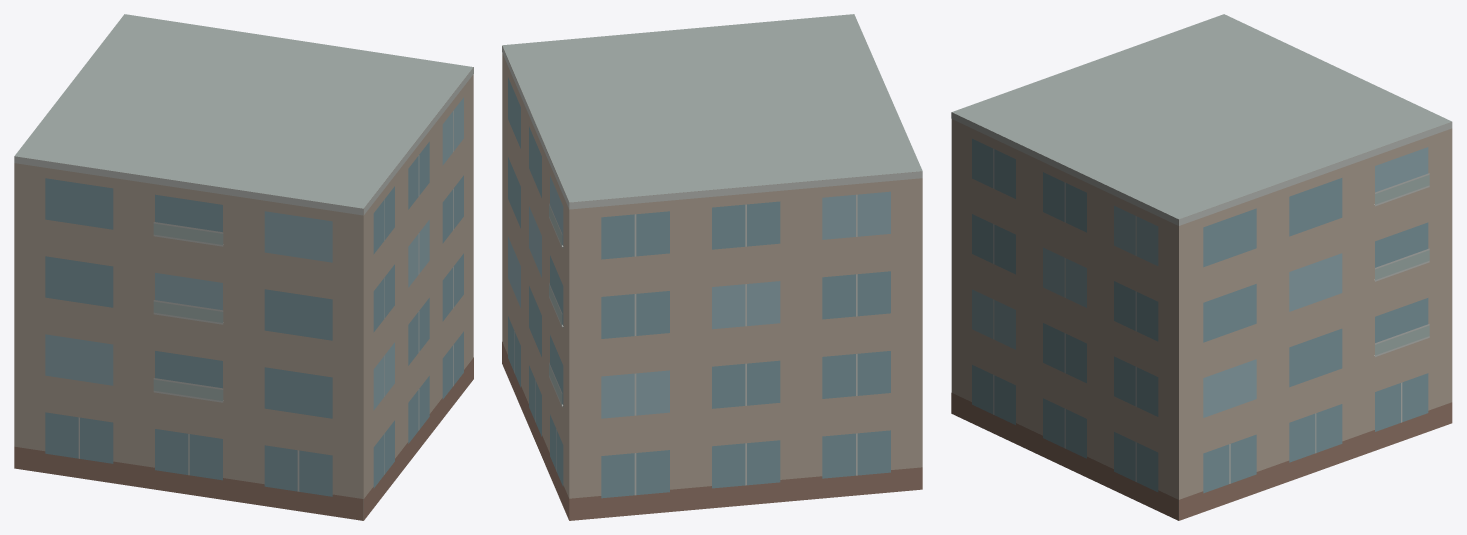
Rendered from survey-upis-32976439.glb.
The picture shows the model from 3 angles, left to right: view 1: azimuth 30°, elevation 25°; view 2: azimuth 150°, elevation 25°; view 3: azimuth 270°, elevation 25°; orthographic projection. The views are drawn at different scales.
Parts seen in each view (by area): view 1: survey-upis-32976439.tmp; view 2: survey-upis-32976439.tmp; view 3: survey-upis-32976439.tmp.
Boxes of the visible parts, x1=… form: survey-upis-32976439.tmp: x1=14, y1=14, x2=473, y2=520; survey-upis-32976439.tmp: x1=502, y1=14, x2=922, y2=520; survey-upis-32976439.tmp: x1=951, y1=14, x2=1452, y2=520.
Bounding box in the file's own units: 16.23 × 11.1 × 16.72.
